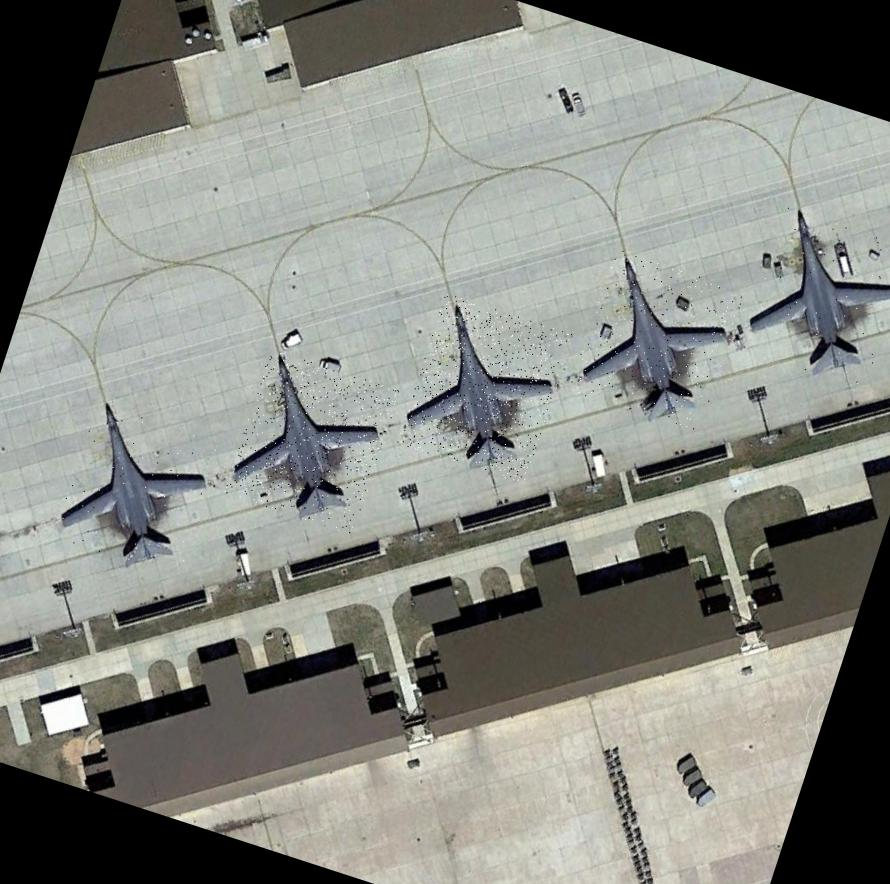A10: (397, 292, 573, 485), (568, 247, 746, 433), (48, 397, 224, 584), (224, 348, 399, 535), (735, 203, 890, 395)
